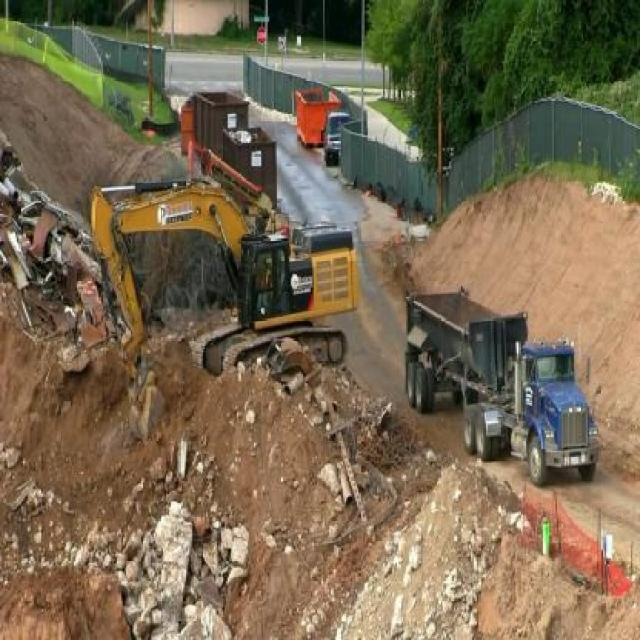Dump Truck: (404, 282, 598, 486)
Excavator: (88, 175, 361, 433)
